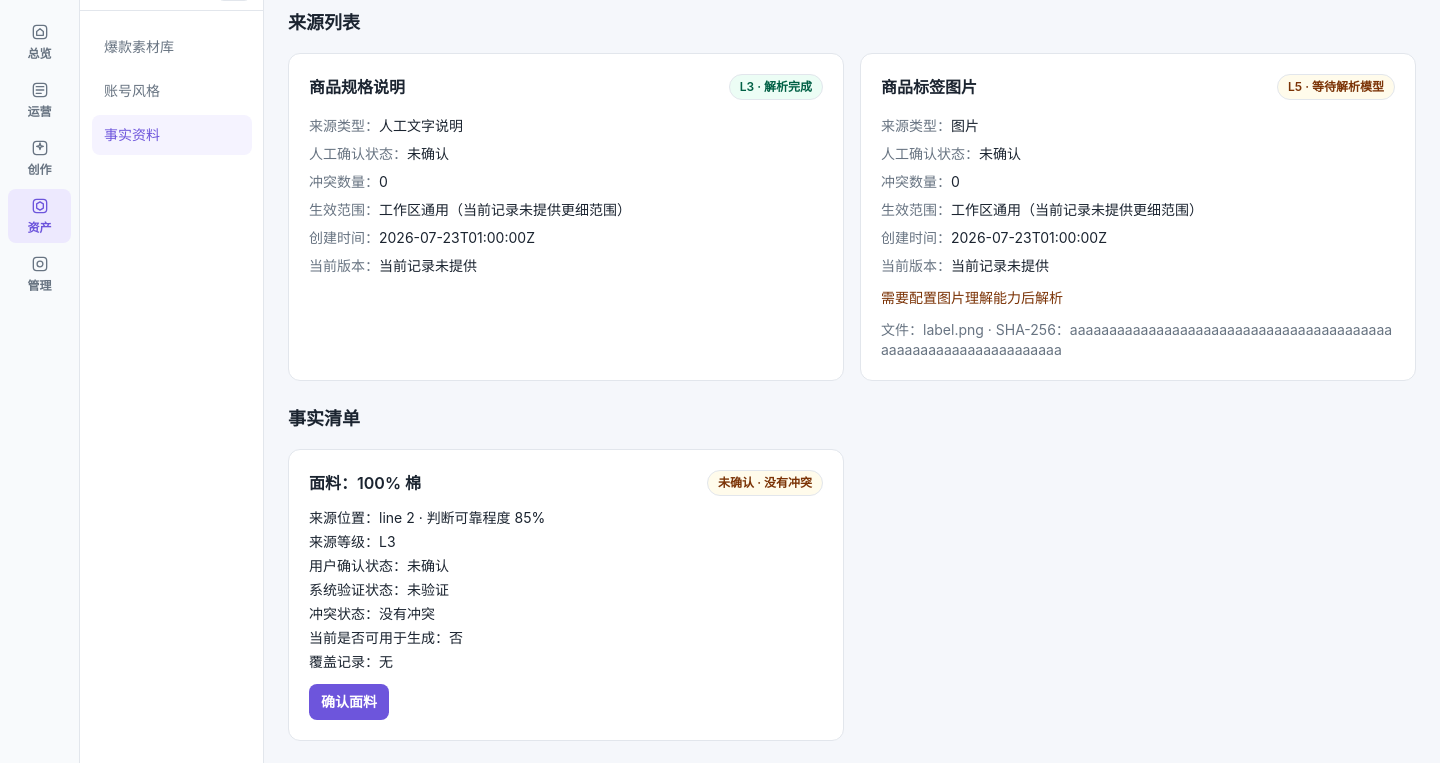
Test: shows source traceability, degradation, and confirms only candidate facts
(page scrolled)
Expected: the heading "商品规格说明" is shown, top-left (309, 75), bottom-right (405, 99)
Expected: the text "L3 · 解析完成" is shown, top-left (729, 74), bottom-right (823, 100)
What coordinates should you click on to do the following:
click the button "确认面料"
I would click on:
 (349, 702)
Its box is top-left (309, 684), bottom-right (389, 720).
(page scrolled)
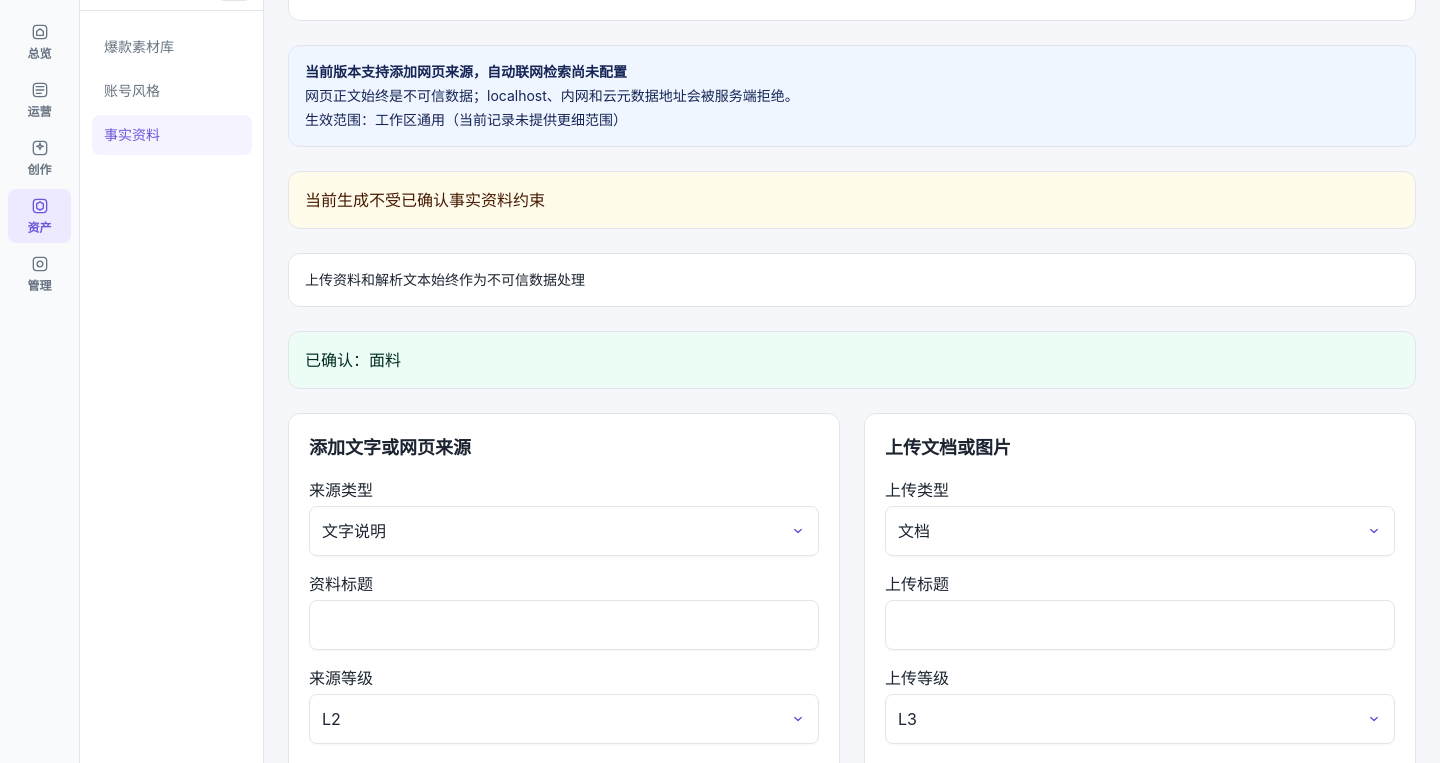
Result: the text "已确认：面料" is shown at top-left (288, 331), bottom-right (1416, 389)
Result: the button "确认面料" is gone
